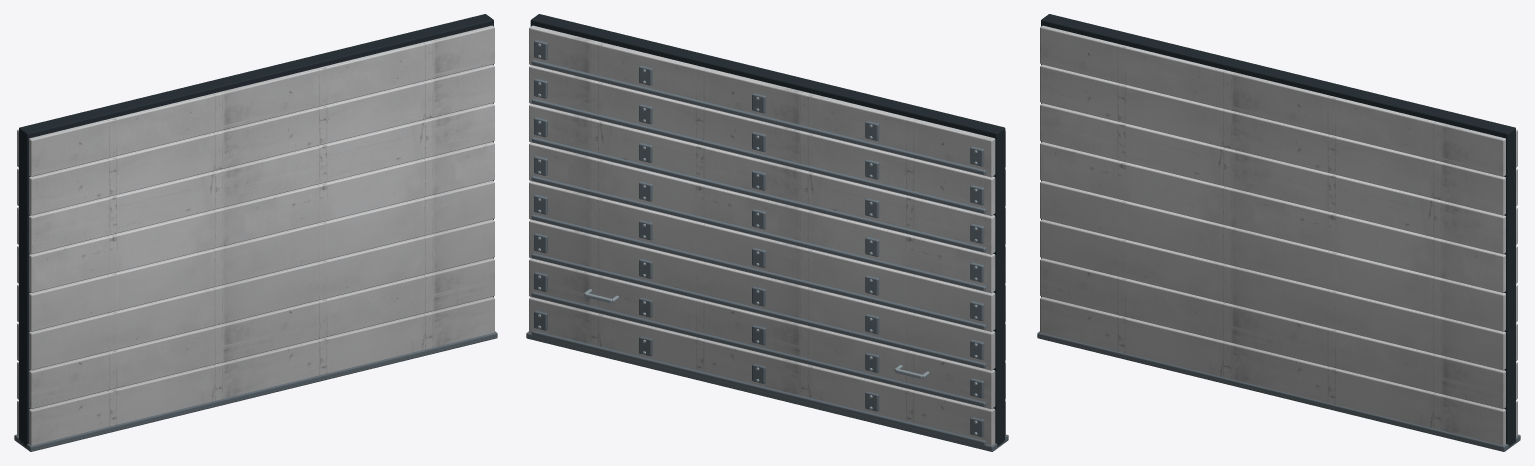
File: garage_shutter.glb
3 renders of one model, left to right at view 1: azimuth 30°, elevation 25°; view 2: azimuth 150°, elevation 25°; view 3: azimuth 330°, elevation 25°, orthographic.
Parts seen in each view (by area): view 1: Garage_Insulated_Shutter; view 2: Garage_Insulated_Shutter; view 3: Garage_Insulated_Shutter.
Boxes of the visible parts, <box> form: Garage_Insulated_Shutter: <box>14,14,497,451</box>; Garage_Insulated_Shutter: <box>526,14,1008,451</box>; Garage_Insulated_Shutter: <box>1037,14,1520,451</box>.
Size of the model in its own units: 5.56 by 3.59 by 0.47.
Materials: 4 (1 with a texture image).
